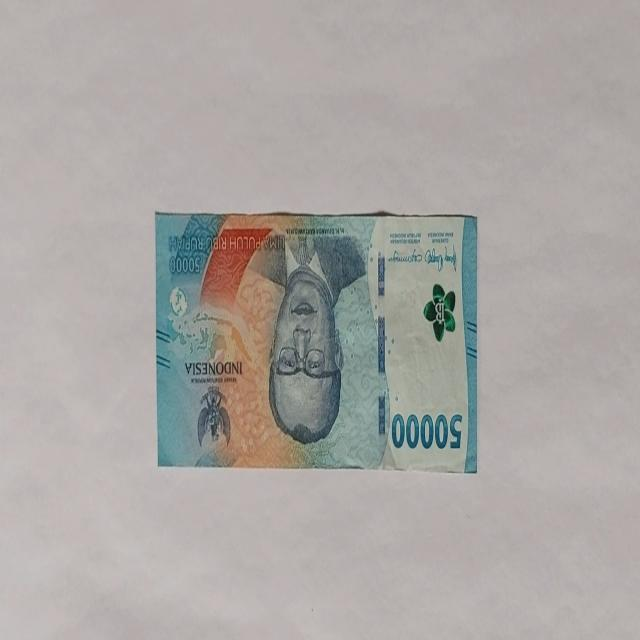lima puluh ribu rupiah: (154, 210, 478, 472), (262, 232, 364, 448)
